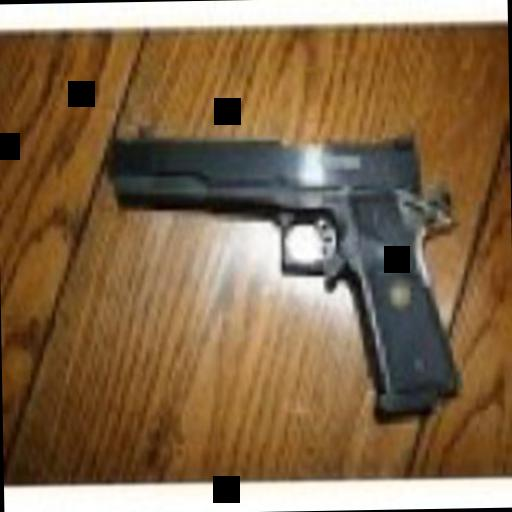Handgun: (102, 118, 462, 432)
